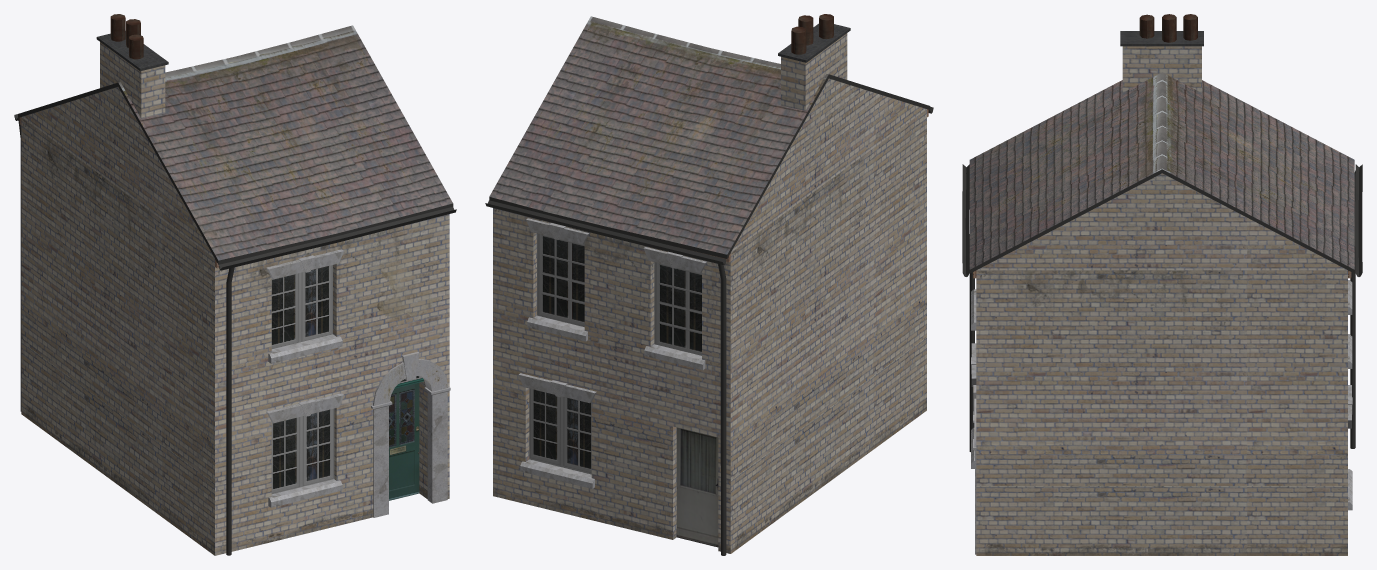
The model's file is ukterracedvictorian7.FBX.
The picture shows the model from 3 angles, left to right: view 1: azimuth 30°, elevation 25°; view 2: azimuth 150°, elevation 25°; view 3: azimuth 270°, elevation 25°; orthographic projection. The views are drawn at different scales.
Visible parts, largest first — view 1: Object003; view 2: Object003; view 3: Object003.
Part boxes in pixels (x1,y1,x2,y2): Object003: (14, 14, 456, 555); Object003: (485, 14, 933, 555); Object003: (962, 14, 1362, 555).
Bounding box in the file's own units: 560 × 1040 × 862.
